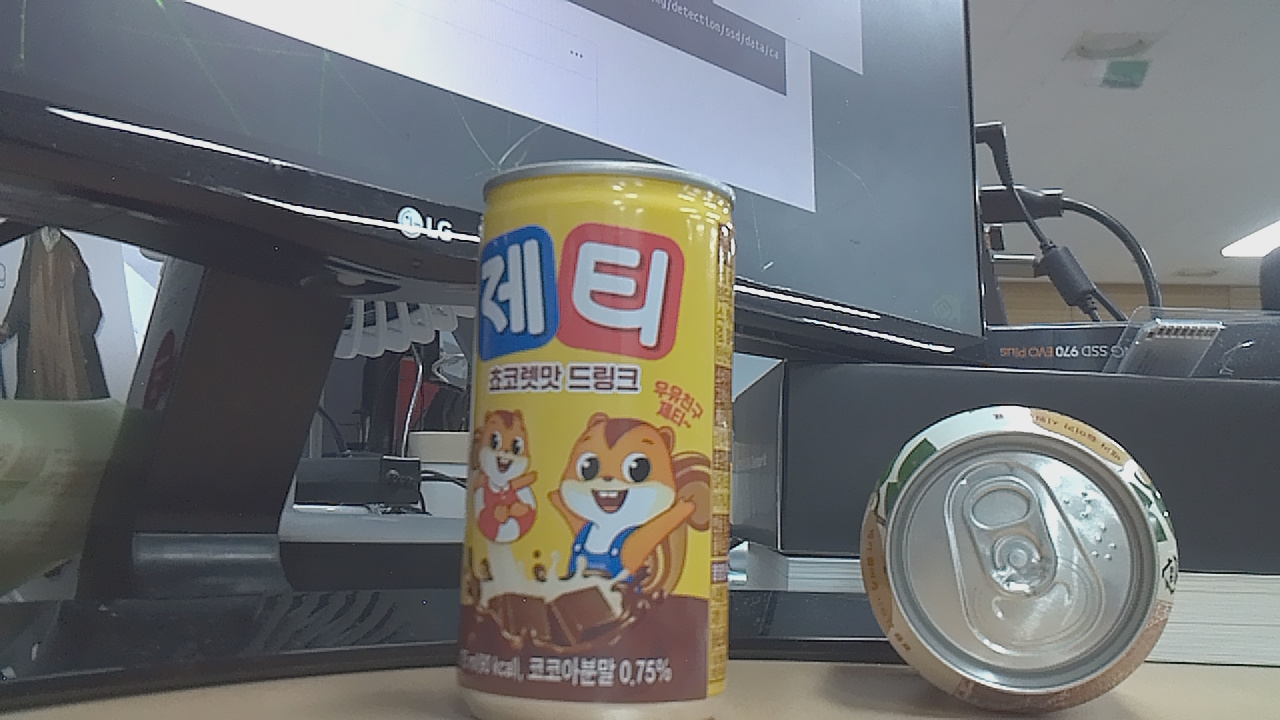IdH (pear juice): (848, 401, 1195, 720)
jetty: (442, 158, 745, 720)
